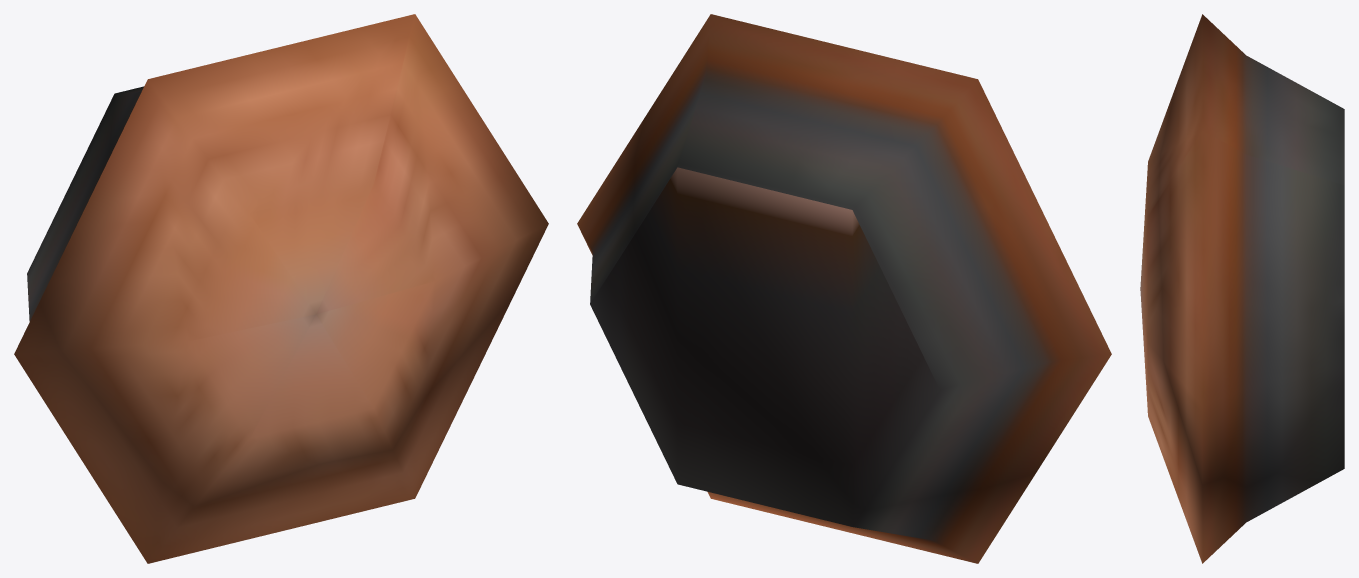
Rendered from fruitpie.glb.
3 views of the same model, side by side, from view 1: azimuth 30°, elevation 25°; view 2: azimuth 150°, elevation 25°; view 3: azimuth 270°, elevation 25° (orthographic). The views are drawn at different scales.
Parts seen in each view (by area): view 1: tart; view 2: tart; view 3: tart.
Part boxes in pixels (x1,y1,x2,y2): tart: (14, 14, 548, 563); tart: (577, 14, 1111, 563); tart: (1140, 14, 1344, 563).
Size of the model in its own units: 1.41 by 1.22 by 0.5216.
1 material, 1 textured.
